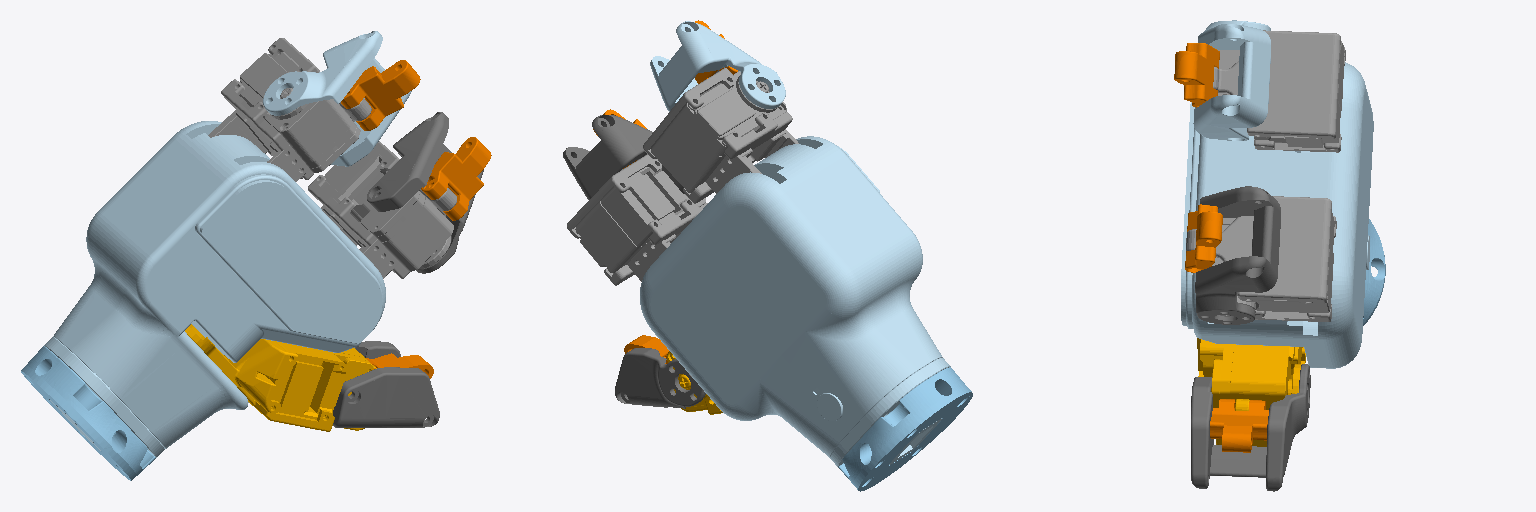
robot.urdf — mygripper_H100_R:
<?xml version="1.0" ?>
<!-- Generated using onshape-to-robot -->
<!-- Onshape document_id: 6ff454ebddd4fe4529325676 -->
<robot name="mygripper_H100_R">
  <!-- Link base_step -->
  <link name="base_step">
    <inertial>
      <origin xyz="0.0567289 0.00445373 0.0478149" rpy="0 0 0"/>
      <mass value="0.461279"/>
      <inertia ixx="0.000460011" ixy="3.42617e-05" ixz="-0.000108825" iyy="0.000731783" iyz="3.29231e-05" izz="0.000509524"/>
    </inertial>
    <!-- Part hand_step -->
    <visual>
      <origin xyz="0.137453 -0.0823529 -0.211539" rpy="-0.00658408 0.897966 -0.0851877"/>
      <geometry>
        <mesh filename="assets/hand_step.stl"/>
      </geometry>
      <material name="hand_step_material">
        <color rgba="0.768627 0.886275 0.952941 1"/>
      </material>
    </visual>
    <collision>
      <origin xyz="0.137453 -0.0823529 -0.211539" rpy="-0.00658408 0.897966 -0.0851877"/>
      <geometry>
        <mesh filename="assets/hand_step.stl"/>
      </geometry>
    </collision>
    <!-- Part base_step -->
    <visual>
      <origin xyz="0.013678 0.0085596 0.00975605" rpy="-1.57738 0.897966 -0.0851877"/>
      <geometry>
        <mesh filename="assets/base_step.stl"/>
      </geometry>
      <material name="base_step_material">
        <color rgba="0.615686 0.811765 0.929412 1"/>
      </material>
    </visual>
    <collision>
      <origin xyz="0.013678 0.0085596 0.00975605" rpy="-1.57738 0.897966 -0.0851877"/>
      <geometry>
        <mesh filename="assets/base_step.stl"/>
      </geometry>
    </collision>
  </link>
  <!-- Link m_link_step -->
  <link name="m_link_step">
    <inertial>
      <origin xyz="-0.0489309 0.00101779 -0.0196847" rpy="0 0 0"/>
      <mass value="0.0496945"/>
      <inertia ixx="9.36299e-06" ixy="5.55724e-07" ixz="-4.96276e-06" iyy="1.84721e-05" iyz="4.04937e-07" izz="1.71163e-05"/>
    </inertial>
    <!-- Part m_link_step -->
    <visual>
      <origin xyz="-0.10736 0.0328144 0.0875885" rpy="-1.5708 1.0472 3.4682e-17"/>
      <geometry>
        <mesh filename="assets/m_link_step.stl"/>
      </geometry>
      <material name="m_link_step_material">
        <color rgba="0.980392 0.713725 0.00392157 1"/>
      </material>
    </visual>
    <collision>
      <origin xyz="-0.10736 0.0328144 0.0875885" rpy="-1.5708 1.0472 3.4682e-17"/>
      <geometry>
        <mesh filename="assets/m_link_step.stl"/>
      </geometry>
    </collision>
  </link>
  <!-- Link s_link2_step -->
  <link name="s_link2_step">
    <inertial>
      <origin xyz="0.0173261 0.00803321 0.0205433" rpy="0 0 0"/>
      <mass value="0.0114193"/>
      <inertia ixx="2.90578e-06" ixy="-3.75337e-07" ixz="1.11676e-07" iyy="3.28631e-06" iyz="1.24939e-07" izz="1.87443e-06"/>
    </inertial>
    <!-- Part s_link2_step -->
    <visual>
      <origin xyz="0.0005 0.0005 0.001" rpy="-2.0361e-17 7.36399e-18 3.58409e-17"/>
      <geometry>
        <mesh filename="assets/s_link2_step.stl"/>
      </geometry>
      <material name="s_link2_step_material">
        <color rgba="0.498039 0.498039 0.498039 1"/>
      </material>
    </visual>
    <collision>
      <origin xyz="0.0005 0.0005 0.001" rpy="-2.0361e-17 7.36399e-18 3.58409e-17"/>
      <geometry>
        <mesh filename="assets/s_link2_step.stl"/>
      </geometry>
    </collision>
  </link>
  <!-- Joint from m_link_step to s_link2_step -->
  <joint name="Revolute 4" type="revolute">
    <origin xyz="-0.0630503 0.0189 -0.029703" rpy="-1.5708 0.0624223 -3.14159"/>
    <parent link="m_link_step"/>
    <child link="s_link2_step"/>
    <axis xyz="0 0 1"/>
    <limit effort="10" velocity="10" lower="-3.141592653589793" upper="3.141592653589793"/>
  </joint>
  <!-- Link s_link1_step -->
  <link name="s_link1_step">
    <inertial>
      <origin xyz="-0.011012 0.000414413 0.00255" rpy="0 0 0"/>
      <mass value="0.00221562"/>
      <inertia ixx="6.38383e-08" ixy="-2.57189e-09" ixz="-1.29081e-24" iyy="1.64246e-07" iyz="-6.50197e-26" izz="1.14557e-07"/>
    </inertial>
    <!-- Part s_link1_step -->
    <visual>
      <origin xyz="-0.024 0 -0.00735" rpy="-2.35778e-19 1.67034e-17 -2.30307e-17"/>
      <geometry>
        <mesh filename="assets/s_link1_step.stl"/>
      </geometry>
      <material name="s_link1_step_material">
        <color rgba="0.972549 0.529412 0.00392157 1"/>
      </material>
    </visual>
    <collision>
      <origin xyz="-0.024 0 -0.00735" rpy="-2.35778e-19 1.67034e-17 -2.30307e-17"/>
      <geometry>
        <mesh filename="assets/s_link1_step.stl"/>
      </geometry>
    </collision>
  </link>
  <!-- Link finger1_step -->
  <link name="finger1_step">
    <inertial>
      <origin xyz="0.0191535 0.00426747 0.00505033" rpy="0 0 0"/>
      <mass value="0.0294185"/>
      <inertia ixx="3.44016e-06" ixy="1.09079e-06" ixz="-1.7937e-11" iyy="6.30738e-06" iyz="-3.63156e-11" izz="5.93037e-06"/>
    </inertial>
    <!-- Part finger1_step -->
    <visual>
      <origin xyz="-0.00686594 -0.00566544 -0.00745" rpy="-3.01061e-19 -1.41078e-17 -3.34392e-18"/>
      <geometry>
        <mesh filename="assets/finger1_step.stl"/>
      </geometry>
      <material name="finger1_step_material">
        <color rgba="0.768627 0.886275 0.952941 1"/>
      </material>
    </visual>
    <collision>
      <origin xyz="-0.00686594 -0.00566544 -0.00745" rpy="-3.01061e-19 -1.41078e-17 -3.34392e-18"/>
      <geometry>
        <mesh filename="assets/finger1_step.stl"/>
      </geometry>
    </collision>
  </link>
  <!-- Link s_link2_step_2 -->
  <link name="s_link2_step_2">
    <inertial>
      <origin xyz="-0.0161781 0.00978235 0.0115433" rpy="0 0 0"/>
      <mass value="0.0114193"/>
      <inertia ixx="2.71869e-06" ixy="1.86225e-07" ixz="1.6726e-07" iyy="3.4734e-06" iyz="1.02756e-08" izz="1.87443e-06"/>
    </inertial>
    <!-- Part s_link2_step_2 -->
    <visual>
      <origin xyz="-0.0334378 0.016261 -0.008" rpy="4.02579e-15 1.85183e-15 -0.780037"/>
      <geometry>
        <mesh filename="assets/s_link2_step.stl"/>
      </geometry>
      <material name="s_link2_step_2_material">
        <color rgba="0.498039 0.498039 0.498039 1"/>
      </material>
    </visual>
    <collision>
      <origin xyz="-0.0334378 0.016261 -0.008" rpy="4.02579e-15 1.85183e-15 -0.780037"/>
      <geometry>
        <mesh filename="assets/s_link2_step.stl"/>
      </geometry>
    </collision>
  </link>
  <!-- Joint from finger1_step to s_link2_step_2 -->
  <joint name="nRevolute 6" type="revolute">
    <origin xyz="-0.00236594 0.0158346 0.01485" rpy="3.14159 -1.41078e-17 -3.34392e-18"/>
    <parent link="finger1_step"/>
    <child link="s_link2_step_2"/>
    <axis xyz="0 0 1"/>
    <limit effort="10" velocity="10" lower="-3.141592653589793" upper="3.141592653589793"/>
  </joint>
  <!-- Joint from s_link1_step to finger1_step -->
  <joint name="nCylindrical 1" type="revolute">
    <origin xyz="-0.022 2.42861e-17 0.0074" rpy="-3.14159 -2.83457e-15 -3.09444"/>
    <parent link="s_link1_step"/>
    <child link="finger1_step"/>
    <axis xyz="0 0 1"/>
    <limit effort="10" velocity="10" lower="-3.141592653589793" upper="3.141592653589793"/>
  </joint>
  <!-- Joint from m_link_step to s_link1_step -->
  <joint name="nRevolute 5" type="revolute">
    <origin xyz="-0.0722669 0.00245 -0.0409594" rpy="1.5708 -0.795304 4.66737e-15"/>
    <parent link="m_link_step"/>
    <child link="s_link1_step"/>
    <axis xyz="0 0 1"/>
    <limit effort="10" velocity="10" lower="-3.141592653589793" upper="3.141592653589793"/>
  </joint>
  <!-- Joint from base_step to m_link_step -->
  <joint name="Revolute 1" type="revolute">
    <origin xyz="0.0447307 -0.00358122 0.0352345" rpy="-3.13501 -0.897966 3.0564"/>
    <parent link="base_step"/>
    <child link="m_link_step"/>
    <axis xyz="0 0 1"/>
    <limit effort="10" velocity="10" lower="-3.141592653589793" upper="3.141592653589793"/>
  </joint>
  <!-- Link dae_mhl_step -->
  <link name="dae_mhl_step">
    <inertial>
      <origin xyz="-0.000447671 0.0379518 -0.0151216" rpy="0 0 0"/>
      <mass value="0.0477967"/>
      <inertia ixx="1.60802e-05" ixy="2.55929e-08" ixz="-5.59353e-07" iyy="1.23158e-05" iyz="6.88575e-07" izz="1.19012e-05"/>
    </inertial>
    <!-- Part dae_mhl_step -->
    <visual>
      <origin xyz="0.0467361 0.036859 -0.049404" rpy="-1.83611e-17 -6.77369e-18 2.97965e-17"/>
      <geometry>
        <mesh filename="assets/dae_mhl_step.stl"/>
      </geometry>
      <material name="dae_mhl_step_material">
        <color rgba="0.647059 0.647059 0.647059 1"/>
      </material>
    </visual>
    <collision>
      <origin xyz="0.0467361 0.036859 -0.049404" rpy="-1.83611e-17 -6.77369e-18 2.97965e-17"/>
      <geometry>
        <mesh filename="assets/dae_mhl_step.stl"/>
      </geometry>
    </collision>
  </link>
  <!-- Link finger3_step -->
  <link name="finger3_step">
    <inertial>
      <origin xyz="0.0189583 -0.00667015 0.0194371" rpy="0 0 0"/>
      <mass value="0.00944007"/>
      <inertia ixx="2.00042e-06" ixy="6.75562e-08" ixz="7.48112e-09" iyy="2.9558e-06" iyz="7.44537e-08" izz="1.55868e-06"/>
    </inertial>
    <!-- Part finger3_step -->
    <visual>
      <origin xyz="1.38778e-17 0 0.0009" rpy="-3.14159 4.85384e-17 1.42529e-17"/>
      <geometry>
        <mesh filename="assets/finger3_step.stl"/>
      </geometry>
      <material name="finger3_step_material">
        <color rgba="0.498039 0.498039 0.498039 1"/>
      </material>
    </visual>
    <collision>
      <origin xyz="1.38778e-17 0 0.0009" rpy="-3.14159 4.85384e-17 1.42529e-17"/>
      <geometry>
        <mesh filename="assets/finger3_step.stl"/>
      </geometry>
    </collision>
  </link>
  <!-- Joint from dae_mhl_step to finger3_step -->
  <joint name="Revolute 7" type="revolute">
    <origin xyz="-0.0182264 0.0406686 -0.02941" rpy="1.5708 -0.604973 1.55417"/>
    <parent link="dae_mhl_step"/>
    <child link="finger3_step"/>
    <axis xyz="0 0 1"/>
    <limit effort="10" velocity="10" lower="-3.141592653589793" upper="3.141592653589793"/>
  </joint>
  <!-- Link finger2_step -->
  <link name="finger2_step">
    <inertial>
      <origin xyz="-0.010754 -0.000435967 0.004" rpy="0 0 0"/>
      <mass value="0.00267026"/>
      <inertia ixx="8.70598e-08" ixy="2.75464e-09" ixz="5.66289e-14" iyy="2.17233e-07" iyz="4.56517e-14" izz="1.5454e-07"/>
    </inertial>
    <!-- Part finger2_step -->
    <visual>
      <origin xyz="-0.022 6.93889e-18 0.0139" rpy="-3.14159 1.36948e-17 3.07658e-17"/>
      <geometry>
        <mesh filename="assets/finger2_step.stl"/>
      </geometry>
      <material name="finger2_step_material">
        <color rgba="0.972549 0.529412 0.00392157 1"/>
      </material>
    </visual>
    <collision>
      <origin xyz="-0.022 6.93889e-18 0.0139" rpy="-3.14159 1.36948e-17 3.07658e-17"/>
      <geometry>
        <mesh filename="assets/finger2_step.stl"/>
      </geometry>
    </collision>
  </link>
  <!-- Link finger1_step_2 -->
  <link name="finger1_step_2">
    <inertial>
      <origin xyz="0.0191535 -0.00426747 0.00504967" rpy="0 0 0"/>
      <mass value="0.0294185"/>
      <inertia ixx="3.44016e-06" ixy="-1.09079e-06" ixz="1.7937e-11" iyy="6.30738e-06" iyz="-3.63156e-11" izz="5.93037e-06"/>
    </inertial>
    <!-- Part finger1_step_2 -->
    <visual>
      <origin xyz="-0.00686594 0.00566544 0.01755" rpy="-3.14159 1.18802e-17 -4.85136e-18"/>
      <geometry>
        <mesh filename="assets/finger1_step.stl"/>
      </geometry>
      <material name="finger1_step_2_material">
        <color rgba="0.768627 0.886275 0.952941 1"/>
      </material>
    </visual>
    <collision>
      <origin xyz="-0.00686594 0.00566544 0.01755" rpy="-3.14159 1.18802e-17 -4.85136e-18"/>
      <geometry>
        <mesh filename="assets/finger1_step.stl"/>
      </geometry>
    </collision>
  </link>
  <!-- Link finger3_step_2 -->
  <link name="finger3_step_2">
    <inertial>
      <origin xyz="-0.0167951 -0.00720694 0.0106371" rpy="0 0 0"/>
      <mass value="0.00944007"/>
      <inertia ixx="2.28724e-06" ixy="-4.4308e-07" ixz="-3.92474e-08" iyy="2.66898e-06" iyz="6.37099e-08" izz="1.55868e-06"/>
    </inertial>
    <!-- Part finger3_step_2 -->
    <visual>
      <origin xyz="-0.0359102 -0.0134137 -0.0079" rpy="-3.14159 5.62204e-17 0.652269"/>
      <geometry>
        <mesh filename="assets/finger3_step.stl"/>
      </geometry>
      <material name="finger3_step_2_material">
        <color rgba="0.498039 0.498039 0.498039 1"/>
      </material>
    </visual>
    <collision>
      <origin xyz="-0.0359102 -0.0134137 -0.0079" rpy="-3.14159 5.62204e-17 0.652269"/>
      <geometry>
        <mesh filename="assets/finger3_step.stl"/>
      </geometry>
    </collision>
  </link>
  <!-- Joint from finger1_step_2 to finger3_step_2 -->
  <joint name="nRevolute 9" type="revolute">
    <origin xyz="-0.00236594 -0.0158346 0.01485" rpy="-3.14159 1.18802e-17 -4.85136e-18"/>
    <parent link="finger1_step_2"/>
    <child link="finger3_step_2"/>
    <axis xyz="0 0 1"/>
    <limit effort="10" velocity="10" lower="-3.141592653589793" upper="3.141592653589793"/>
  </joint>
  <!-- Joint from finger2_step to finger1_step_2 -->
  <joint name="nCylindrical 2" type="revolute">
    <origin xyz="-0.022 1.38778e-17 0.00875" rpy="3.14159 1.11354e-15 2.834"/>
    <parent link="finger2_step"/>
    <child link="finger1_step_2"/>
    <axis xyz="0 0 1"/>
    <limit effort="10" velocity="10" lower="-3.141592653589793" upper="3.141592653589793"/>
  </joint>
  <!-- Joint from dae_mhl_step to finger2_step -->
  <joint name="nRevolute 8" type="revolute">
    <origin xyz="-0.00304821 0.0572786 -0.0393" rpy="-1.5708 0.260301 -1.58742"/>
    <parent link="dae_mhl_step"/>
    <child link="finger2_step"/>
    <axis xyz="0 0 1"/>
    <limit effort="10" velocity="10" lower="-3.141592653589793" upper="3.141592653589793"/>
  </joint>
  <!-- Joint from base_step to dae_mhl_step -->
  <joint name="Revolute 2" type="revolute">
    <origin xyz="0.105163 0.0173827 0.0421567" rpy="1.57738 -0.897966 3.0564"/>
    <parent link="base_step"/>
    <child link="dae_mhl_step"/>
    <axis xyz="0 0 1"/>
    <limit effort="10" velocity="10" lower="-3.141592653589793" upper="3.141592653589793"/>
  </joint>
  <!-- Link dae_mhr_step -->
  <link name="dae_mhr_step">
    <inertial>
      <origin xyz="0.00145986 0.037925 -0.0151237" rpy="0 0 0"/>
      <mass value="0.04779"/>
      <inertia ixx="1.60744e-05" ixy="-1.12505e-07" ixz="5.90848e-07" iyy="1.2319e-05" iyz="6.73068e-07" izz="1.19013e-05"/>
    </inertial>
    <!-- Part dae_mhr_step -->
    <visual>
      <origin xyz="-0.105891 0.0577431 -0.0938286" rpy="0.169509 -0.0018353 1.14742e-17"/>
      <geometry>
        <mesh filename="assets/dae_mhr_step.stl"/>
      </geometry>
      <material name="dae_mhr_step_material">
        <color rgba="0.647059 0.647059 0.647059 1"/>
      </material>
    </visual>
    <collision>
      <origin xyz="-0.105891 0.0577431 -0.0938286" rpy="0.169509 -0.0018353 1.14742e-17"/>
      <geometry>
        <mesh filename="assets/dae_mhr_step.stl"/>
      </geometry>
    </collision>
  </link>
  <!-- Link finger4_step -->
  <link name="finger4_step">
    <inertial>
      <origin xyz="0.0189799 0.00668358 0.0194024" rpy="0 0 0"/>
      <mass value="0.00947157"/>
      <inertia ixx="2.00503e-06" ixy="-6.83435e-08" ixz="9.62704e-09" iyy="2.9623e-06" iyz="-7.31495e-08" izz="1.56276e-06"/>
    </inertial>
    <!-- Part finger4_step -->
    <visual>
      <origin xyz="-2.77556e-17 0 0.0009" rpy="-1.47712e-17 2.86673e-17 9.08553e-18"/>
      <geometry>
        <mesh filename="assets/finger4_step.stl"/>
      </geometry>
      <material name="finger4_step_material">
        <color rgba="0.768627 0.886275 0.952941 1"/>
      </material>
    </visual>
    <collision>
      <origin xyz="-2.77556e-17 0 0.0009" rpy="-1.47712e-17 2.86673e-17 9.08553e-18"/>
      <geometry>
        <mesh filename="assets/finger4_step.stl"/>
      </geometry>
    </collision>
  </link>
  <!-- Joint from dae_mhr_step to finger4_step -->
  <joint name="Revolute 10" type="revolute">
    <origin xyz="0.0193317 0.040155 -0.02941" rpy="-1.5708 -0.306507 1.56007"/>
    <parent link="dae_mhr_step"/>
    <child link="finger4_step"/>
    <axis xyz="0 0 1"/>
    <limit effort="10" velocity="10" lower="-3.141592653589793" upper="3.141592653589793"/>
  </joint>
  <!-- Link finger2_step_2 -->
  <link name="finger2_step_2">
    <inertial>
      <origin xyz="-0.010754 0.000435967 0.004" rpy="0 0 0"/>
      <mass value="0.00267026"/>
      <inertia ixx="8.70598e-08" ixy="-2.75464e-09" ixz="-5.66289e-14" iyy="2.17233e-07" iyz="4.56517e-14" izz="1.5454e-07"/>
    </inertial>
    <!-- Part finger2_step_2 -->
    <visual>
      <origin xyz="-0.022 6.93889e-18 -0.0059" rpy="-1.32949e-17 -5.88665e-17 -5.76689e-17"/>
      <geometry>
        <mesh filename="assets/finger2_step.stl"/>
      </geometry>
      <material name="finger2_step_2_material">
        <color rgba="0.972549 0.529412 0.00392157 1"/>
      </material>
    </visual>
    <collision>
      <origin xyz="-0.022 6.93889e-18 -0.0059" rpy="-1.32949e-17 -5.88665e-17 -5.76689e-17"/>
      <geometry>
        <mesh filename="assets/finger2_step.stl"/>
      </geometry>
    </collision>
  </link>
  <!-- Link finger1_step_3 -->
  <link name="finger1_step_3">
    <inertial>
      <origin xyz="0.0191535 -0.00426747 0.00504967" rpy="0 0 0"/>
      <mass value="0.0294185"/>
      <inertia ixx="3.44016e-06" ixy="-1.09079e-06" ixz="1.7937e-11" iyy="6.30738e-06" iyz="-3.63156e-11" izz="5.93037e-06"/>
    </inertial>
    <!-- Part finger1_step_3 -->
    <visual>
      <origin xyz="-0.00686594 0.00566544 0.01755" rpy="3.14159 -4.14025e-17 3.50524e-17"/>
      <geometry>
        <mesh filename="assets/finger1_step.stl"/>
      </geometry>
      <material name="finger1_step_3_material">
        <color rgba="0.768627 0.886275 0.952941 1"/>
      </material>
    </visual>
    <collision>
      <origin xyz="-0.00686594 0.00566544 0.01755" rpy="3.14159 -4.14025e-17 3.50524e-17"/>
      <geometry>
        <mesh filename="assets/finger1_step.stl"/>
      </geometry>
    </collision>
  </link>
  <!-- Link finger4_step_2 -->
  <link name="finger4_step_2">
    <inertial>
      <origin xyz="-0.0178052 0.00401338 0.0105024" rpy="0 0 0"/>
      <mass value="0.00947157"/>
      <inertia ixx="2.14493e-06" ixy="3.44998e-07" ixz="-2.44199e-08" iyy="2.82239e-06" iyz="-6.96218e-08" izz="1.56276e-06"/>
    </inertial>
    <!-- Part finger4_step_2 -->
    <visual>
      <origin xyz="-0.0377587 0.00661434 -0.008" rpy="3.23146e-15 7.39781e-15 -0.468199"/>
      <geometry>
        <mesh filename="assets/finger4_step.stl"/>
      </geometry>
      <material name="finger4_step_2_material">
        <color rgba="0.768627 0.886275 0.952941 1"/>
      </material>
    </visual>
    <collision>
      <origin xyz="-0.0377587 0.00661434 -0.008" rpy="3.23146e-15 7.39781e-15 -0.468199"/>
      <geometry>
        <mesh filename="assets/finger4_step.stl"/>
      </geometry>
    </collision>
  </link>
  <!-- Joint from finger1_step_3 to finger4_step_2 -->
  <joint name="nRevolute 12" type="revolute">
    <origin xyz="-0.00236594 -0.0158346 -0.00475" rpy="-4.86314e-19 -4.14025e-17 3.50524e-17"/>
    <parent link="finger1_step_3"/>
    <child link="finger4_step_2"/>
    <axis xyz="0 0 1"/>
    <limit effort="10" velocity="10" lower="-3.141592653589793" upper="3.141592653589793"/>
  </joint>
  <!-- Joint from finger2_step_2 to finger1_step_3 -->
  <joint name="nCylindrical 3" type="revolute">
    <origin xyz="-0.022 -3.46945e-18 -0.0013" rpy="-2.01102e-15 -7.96338e-15 3.04264"/>
    <parent link="finger2_step_2"/>
    <child link="finger1_step_3"/>
    <axis xyz="0 0 1"/>
    <limit effort="10" velocity="10" lower="-3.141592653589793" upper="3.141592653589793"/>
  </joint>
  <!-- Joint from dae_mhr_step to finger2_step_2 -->
  <joint name="nRevolute 11" type="revolute">
    <origin xyz="0.00456332 0.0571744 -0.0393" rpy="1.5708 -0.260648 -1.58152"/>
    <parent link="dae_mhr_step"/>
    <child link="finger2_step_2"/>
    <axis xyz="0 0 1"/>
    <limit effort="10" velocity="10" lower="-3.141592653589793" upper="3.141592653589793"/>
  </joint>
  <!-- Joint from base_step to dae_mhr_step -->
  <joint name="Revolute 3" type="revolute">
    <origin xyz="0.0666651 0.0206703 0.0906445" rpy="1.57798 -0.962641 3.05566"/>
    <parent link="base_step"/>
    <child link="dae_mhr_step"/>
    <axis xyz="0 0 1"/>
    <limit effort="10" velocity="10" lower="-3.141592653589793" upper="3.141592653589793"/>
  </joint>
</robot>

--- What the picture shows (computed from the rendered views, not written in the file) ---
3 views of the same robot in one strip: view 1: azimuth 30°, elevation 25°; view 2: azimuth 150°, elevation 25°; view 3: azimuth 270°, elevation 25° (orthographic).
Robot: mygripper_H100_R — 16 links, 15 joints (15 revolute); root link base_step; default pose: all joints at 0.
Links seen in each view (by area): view 1: base_step, dae_mhr_step, dae_mhl_step, m_link_step, finger4_step, s_link2_step, finger2_step, finger2_step_2, finger3_step_2, finger3_step, s_link2_step_2, s_link1_step; view 2: base_step, dae_mhr_step, dae_mhl_step, finger3_step, s_link2_step_2, finger4_step, finger4_step_2, m_link_step; view 3: base_step, dae_mhr_step, dae_mhl_step, m_link_step, s_link2_step, finger4_step_2, finger3_step_2, finger3_step, s_link1_step, finger2_step_2, s_link2_step_2, finger2_step (+1 smaller).
Boxes of the visible links, bbox=[...] form: base_step: bbox=[21, 121, 385, 480]; dae_mhr_step: bbox=[208, 38, 371, 181]; dae_mhl_step: bbox=[308, 141, 456, 278]; m_link_step: bbox=[185, 324, 376, 431]; finger4_step: bbox=[263, 31, 410, 166]; s_link2_step: bbox=[336, 341, 439, 427]; finger2_step: bbox=[421, 137, 491, 220]; finger2_step_2: bbox=[341, 60, 420, 130]; finger3_step_2: bbox=[367, 112, 483, 273]; finger3_step: bbox=[367, 112, 483, 264]; s_link2_step_2: bbox=[333, 341, 436, 427]; s_link1_step: bbox=[366, 353, 433, 378]; base_step: bbox=[640, 136, 972, 491]; dae_mhr_step: bbox=[643, 68, 798, 203]; dae_mhl_step: bbox=[567, 154, 707, 285]; finger3_step: bbox=[563, 115, 684, 199]; s_link2_step_2: bbox=[615, 350, 703, 408]; finger4_step: bbox=[652, 21, 785, 108]; finger4_step_2: bbox=[650, 22, 780, 111]; m_link_step: bbox=[667, 351, 722, 414]; base_step: bbox=[1181, 62, 1385, 368]; dae_mhr_step: bbox=[1213, 30, 1345, 152]; dae_mhl_step: bbox=[1186, 196, 1336, 321]; m_link_step: bbox=[1197, 338, 1305, 446]; s_link2_step: bbox=[1191, 370, 1309, 490]; finger4_step_2: bbox=[1197, 21, 1270, 140]; finger3_step_2: bbox=[1195, 191, 1272, 323]; finger3_step: bbox=[1201, 186, 1280, 324]; s_link1_step: bbox=[1210, 399, 1268, 452]; finger2_step_2: bbox=[1174, 43, 1219, 107]; s_link2_step_2: bbox=[1194, 364, 1310, 491]; finger2_step: bbox=[1185, 204, 1222, 272].
Bounding box of the posed robot: 0.1895 × 0.0726 × 0.1714 m (x, y, z).
Meshes: 11 distinct files referenced, 14 mesh visuals loaded (10 binary STL); not drawn: 3 (reference not matched to a file when rendering).
